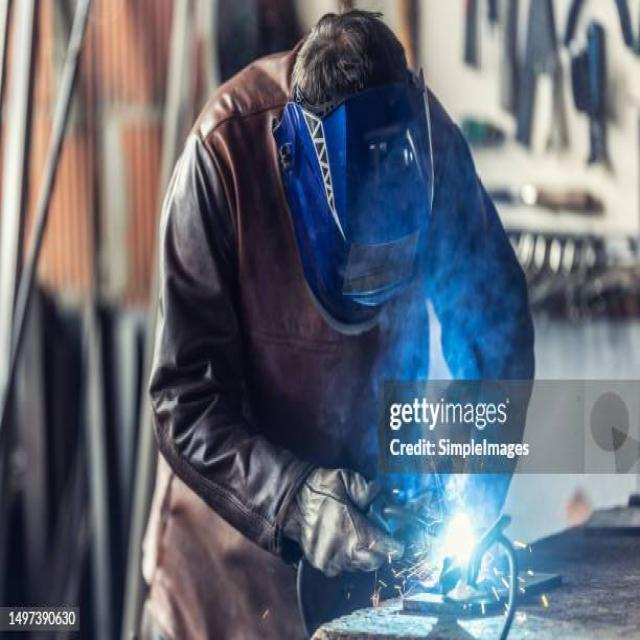welding: (439, 512, 488, 570)
